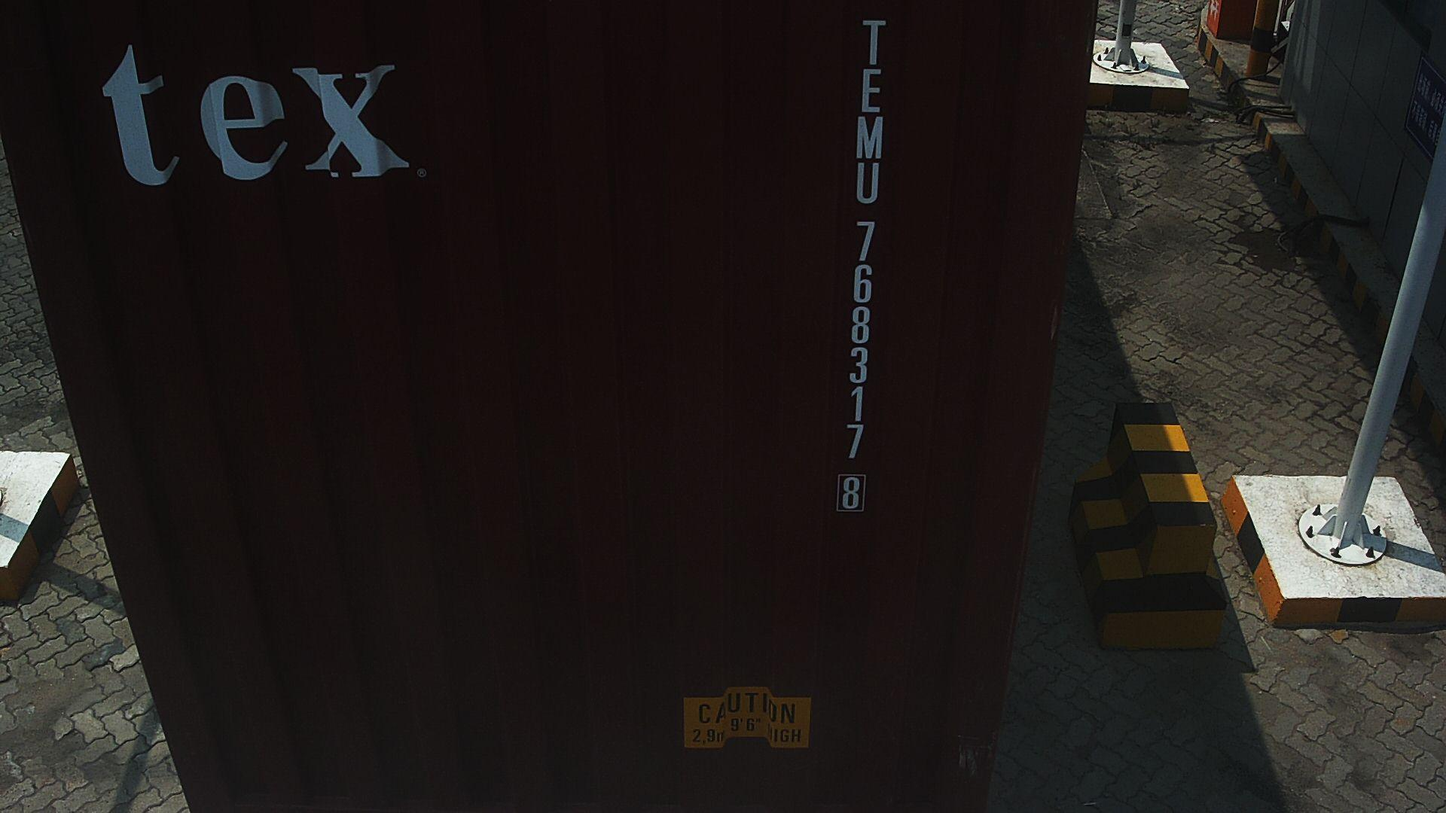container-numbers: (829, 12, 891, 518)
